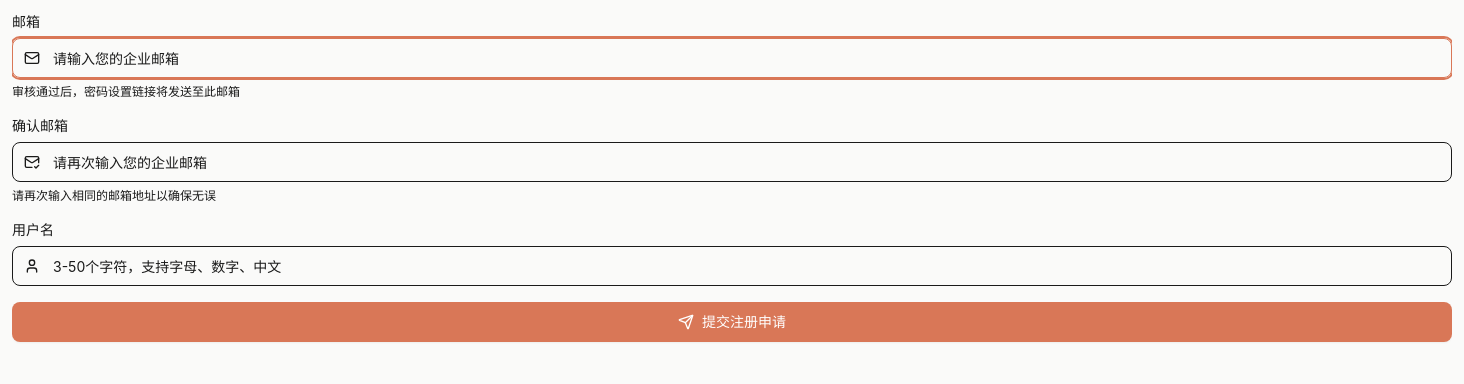
it: RegisterApplyForm 组件 › 输入后清除错误提示
Click the button "提交注册申请".
click(732, 322)  # box [12,302,1452,342]
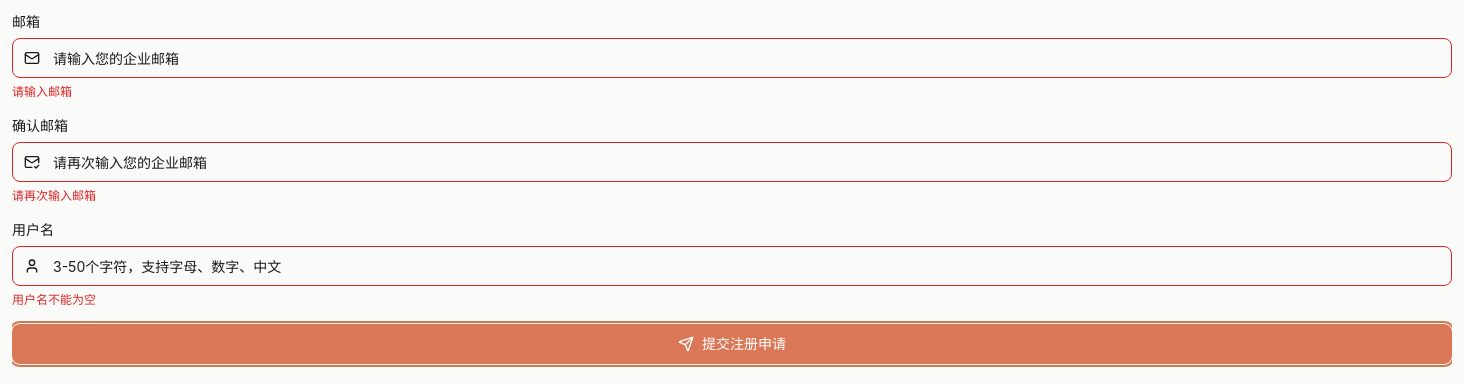
Check: the text "请输入邮箱" is shown, box [12,84,72,99]
# 输入内容后错误消失
Type "t" into the field with placeholder "请输入您的企业邮箱".
click(732, 58); type("t")  # box [12,38,1452,78]
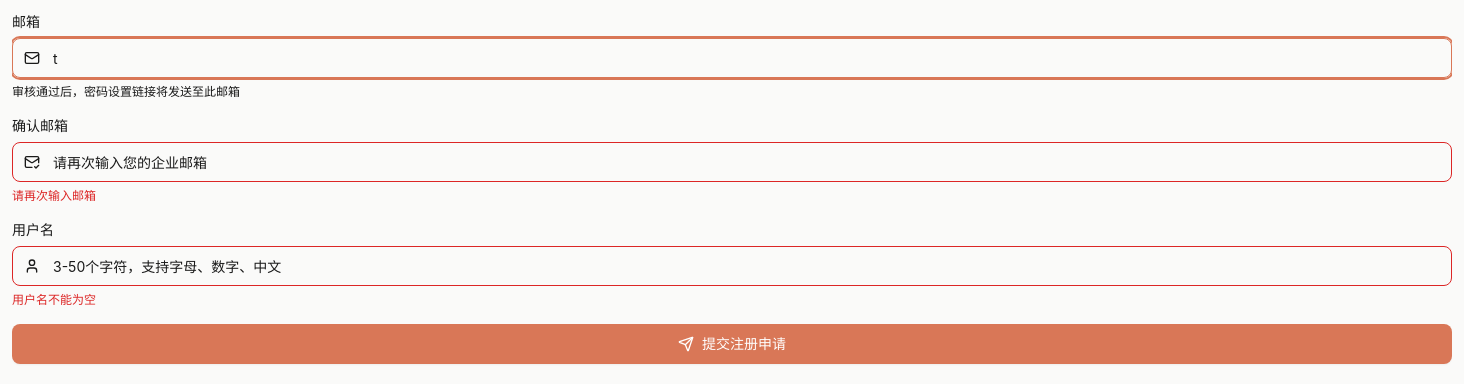
Check: the text "请输入邮箱" is gone
